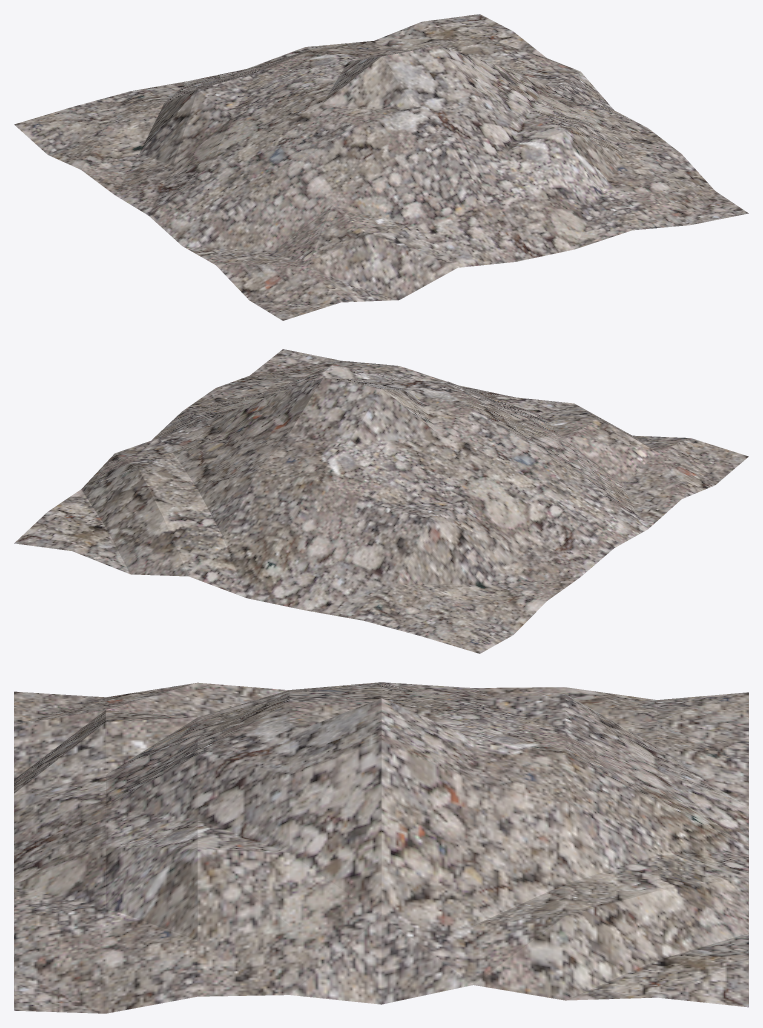
File: debris_2.fbx
3 renders of one model, top to bottom at view 1: azimuth 30°, elevation 25°; view 2: azimuth 150°, elevation 25°; view 3: azimuth 270°, elevation 25°, orthographic. The views are drawn at different scales.
Visible parts, largest first — view 1: debris_2; view 2: debris_2; view 3: debris_2.
Boxes of the visible parts, x1,y1,x2,y2 form: debris_2: (14,14,748,320); debris_2: (14,349,748,653); debris_2: (14,682,748,1013).
Bounding box in the file's own units: 100 × 24.06 × 100.
